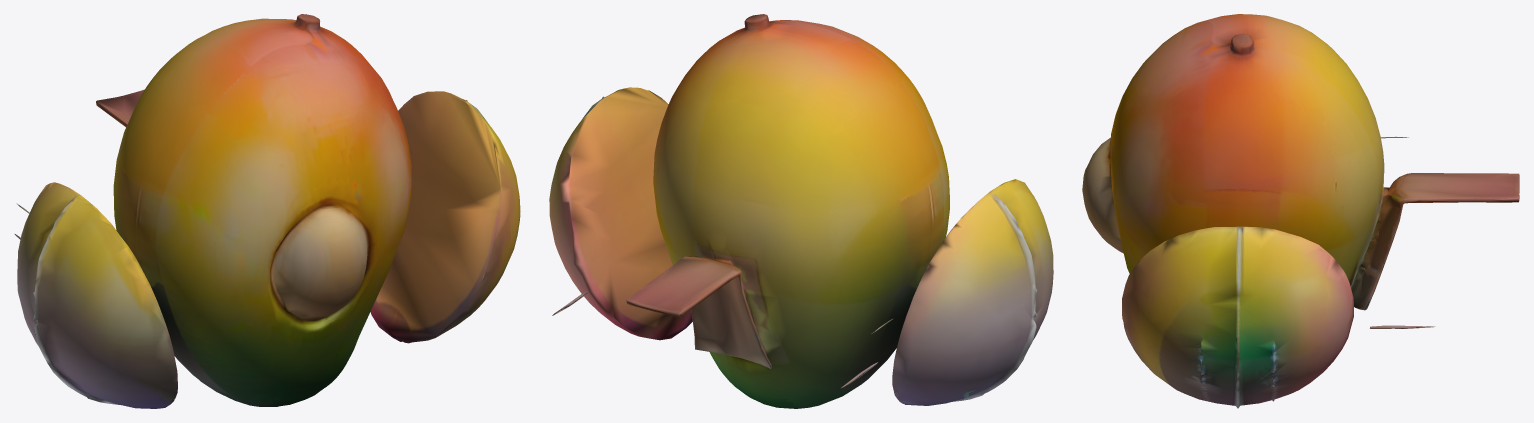
The model's file is mango-3d.glb.
3 renders of one model, left to right at view 1: azimuth 30°, elevation 25°; view 2: azimuth 150°, elevation 25°; view 3: azimuth 270°, elevation 25°, orthographic. The views are drawn at different scales.
Parts seen in each view (by area): view 1: input; view 2: input; view 3: input.
Boxes of the visible parts, <box> form: input: <box>14,14,520,408</box>; input: <box>549,14,1053,408</box>; input: <box>1082,14,1519,408</box>.
Size of the model in its own units: 0.1 by 0.0759 by 0.0838.
Materials: 1 (1 with a texture image).
